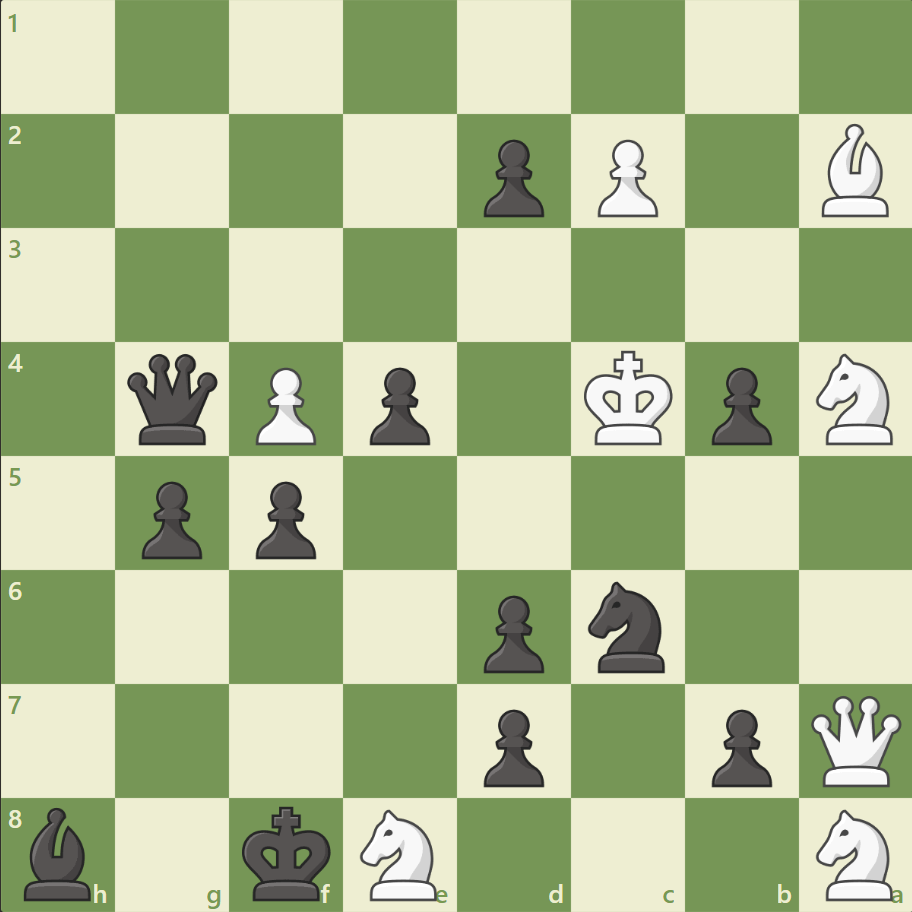B: (812, 120, 896, 222)
K: (579, 344, 679, 452)
N: (351, 802, 449, 904), (806, 802, 903, 904), (806, 348, 903, 450)
P: (247, 359, 322, 450), (588, 132, 662, 223)
Q: (805, 690, 904, 789)
b: (17, 801, 101, 904)
k: (238, 798, 338, 906)
n: (579, 575, 676, 677)
p: (701, 700, 776, 791), (474, 700, 549, 791), (474, 586, 549, 677), (247, 473, 322, 564), (133, 473, 208, 564), (701, 359, 776, 450), (474, 132, 549, 223), (361, 359, 435, 450)
q: (124, 349, 223, 449)
